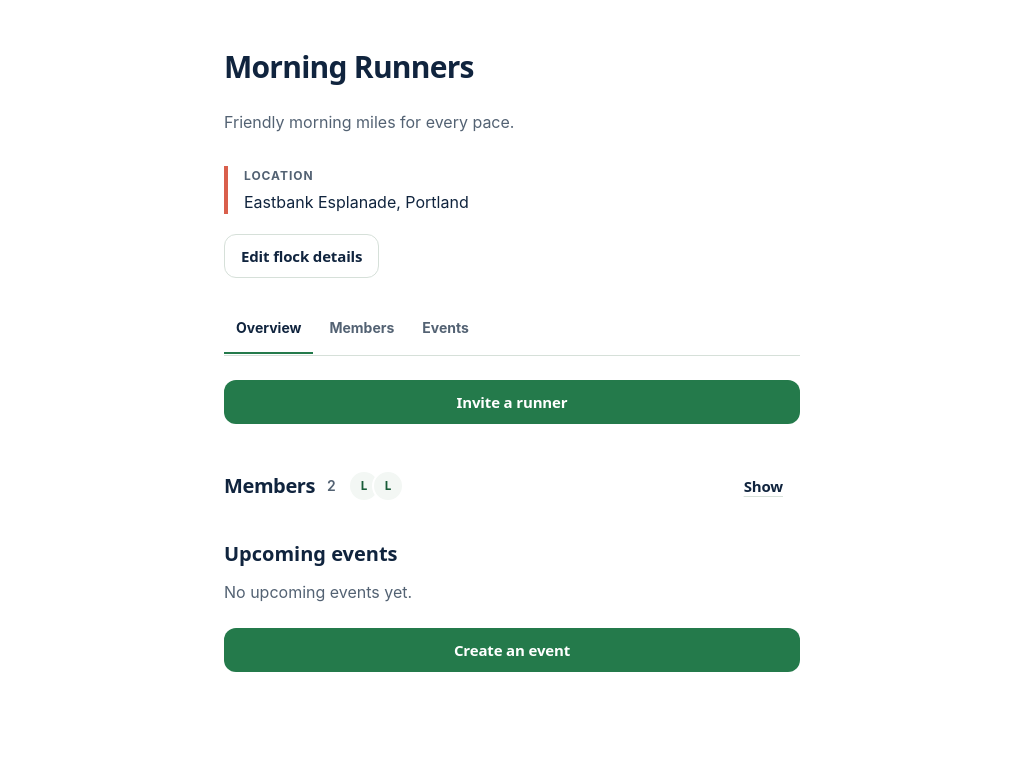
it: FlockDetailRoute › lets the flock owner edit profile details and confirms success
Click the button "Edit flock details" at [302, 256], box x1=224 y1=234 x2=379 y2=278
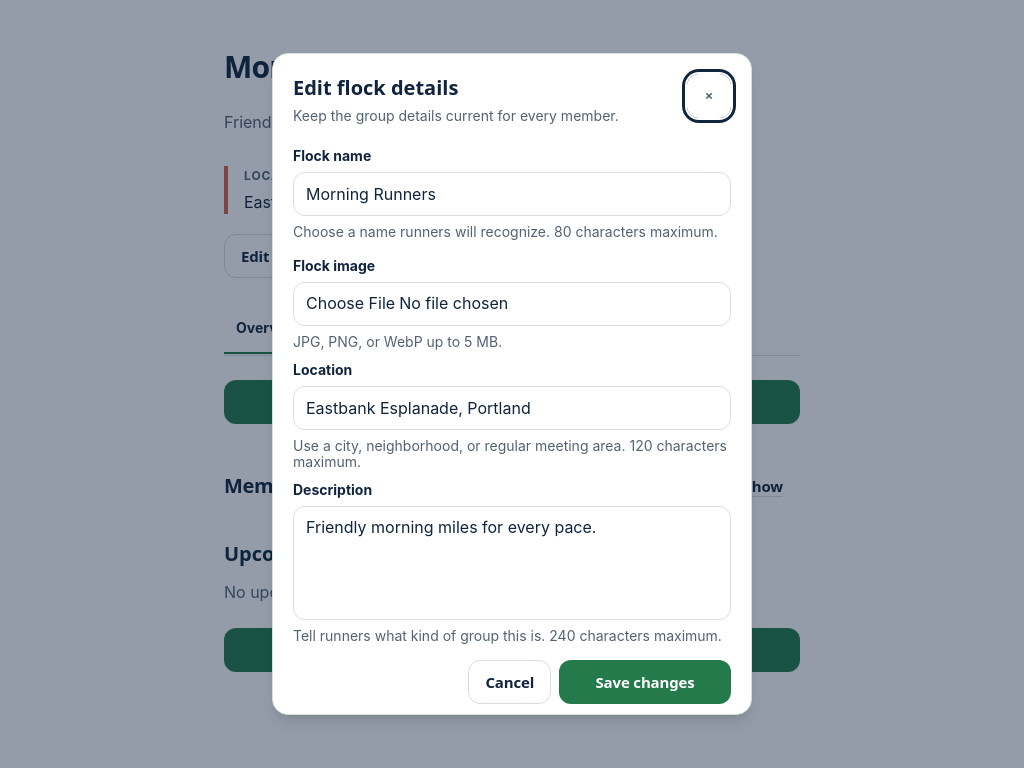
Now the field labelled "Location" holds "Eastbank Esplanade, Portland"
Replace the text in the field labelled "Location" with "Mount Tabor, Portland" at [512, 408], box x1=293 y1=386 x2=731 y2=430
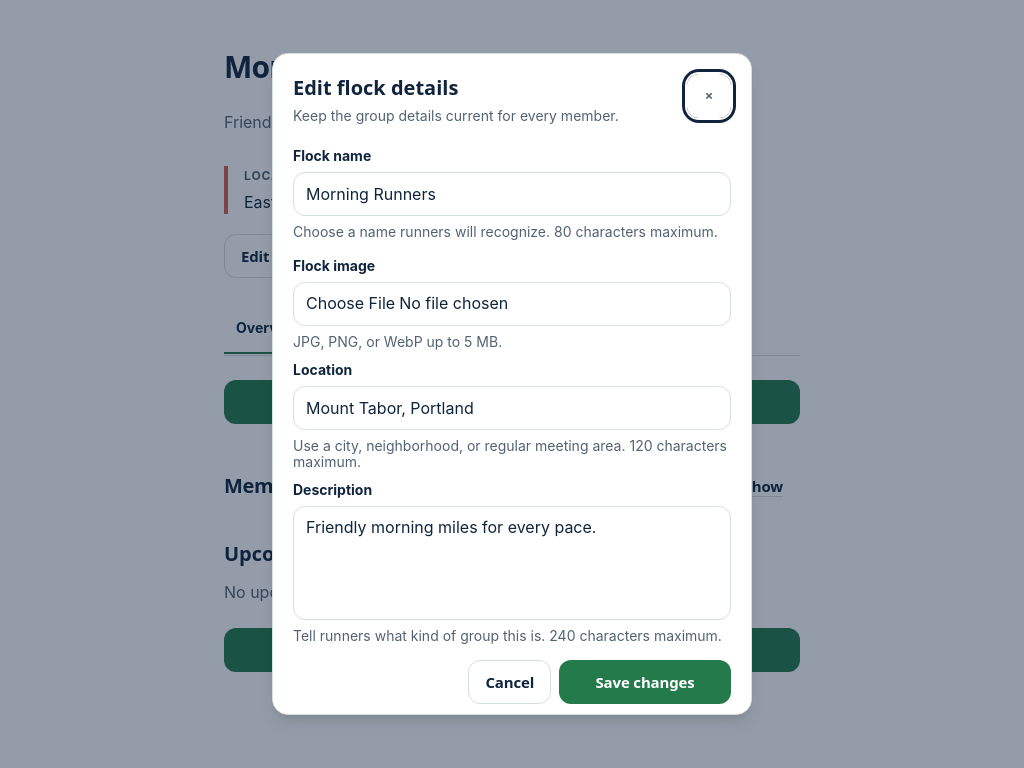
Click the button "Save changes" at [645, 682], box x1=559 y1=660 x2=731 y2=704
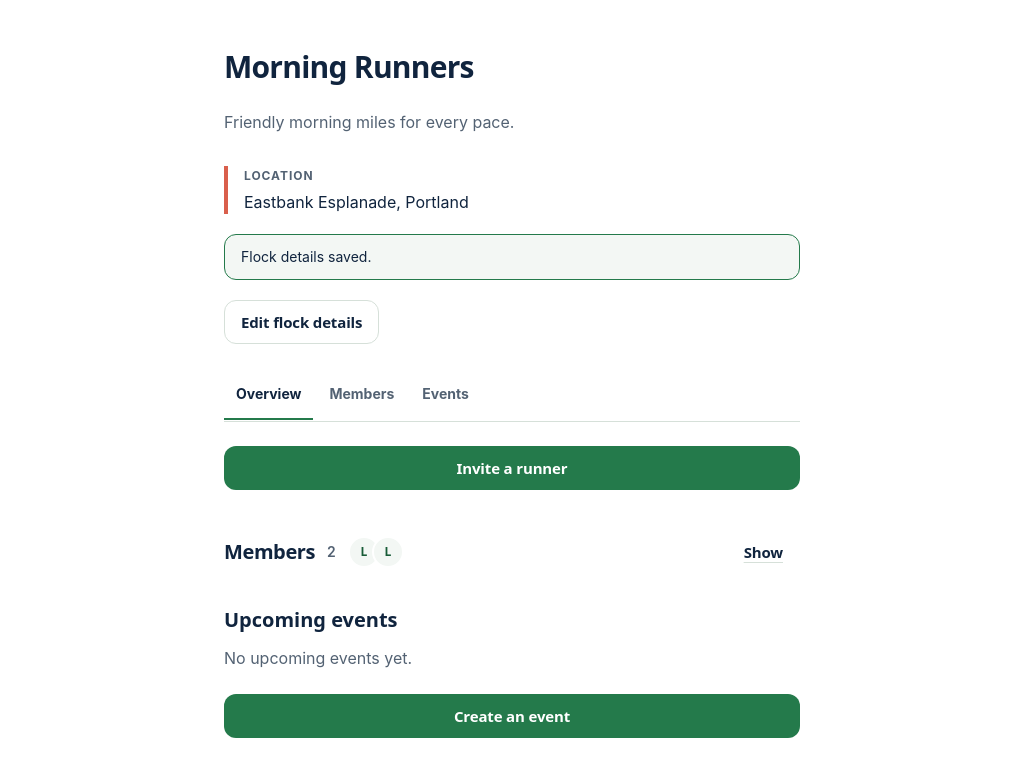
Now the message reads "Flock details saved.", box x1=241 y1=248 x2=371 y2=264
